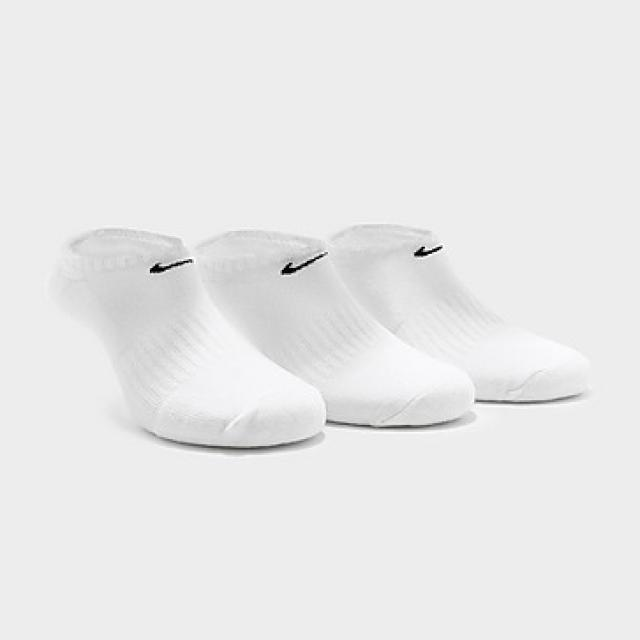sock: (48, 224, 326, 448), (192, 226, 474, 427), (326, 220, 591, 402)
